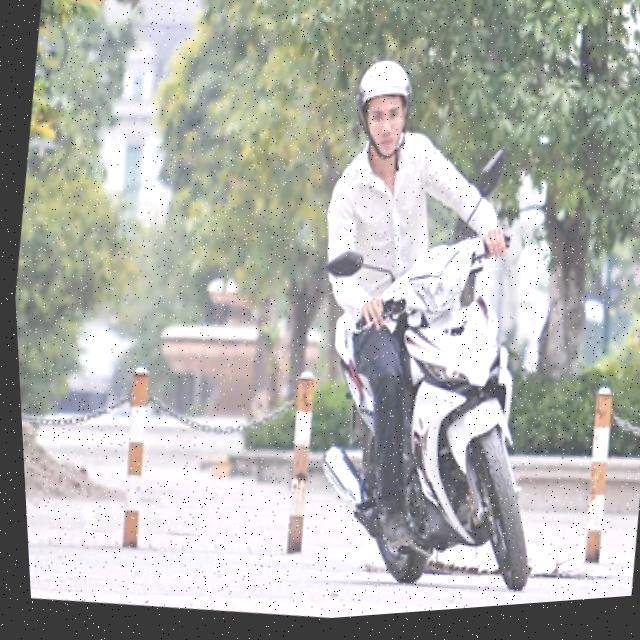motorcycle: (278, 203, 598, 620)
